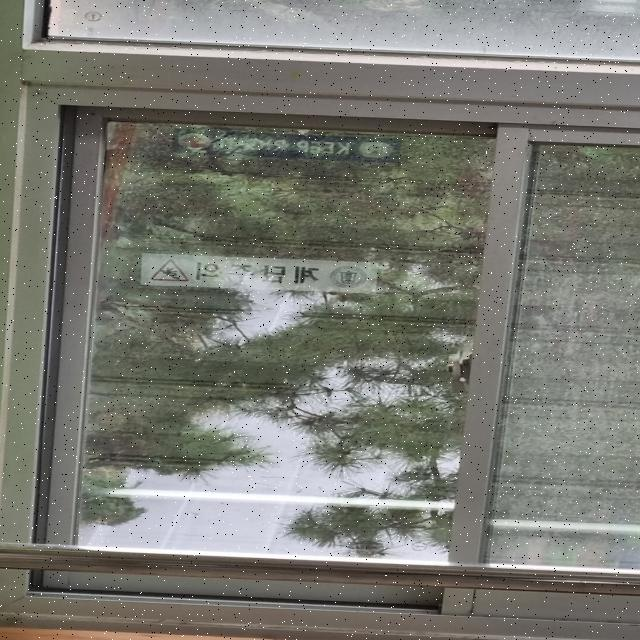logo: (328, 264, 371, 290), (355, 140, 394, 162)
